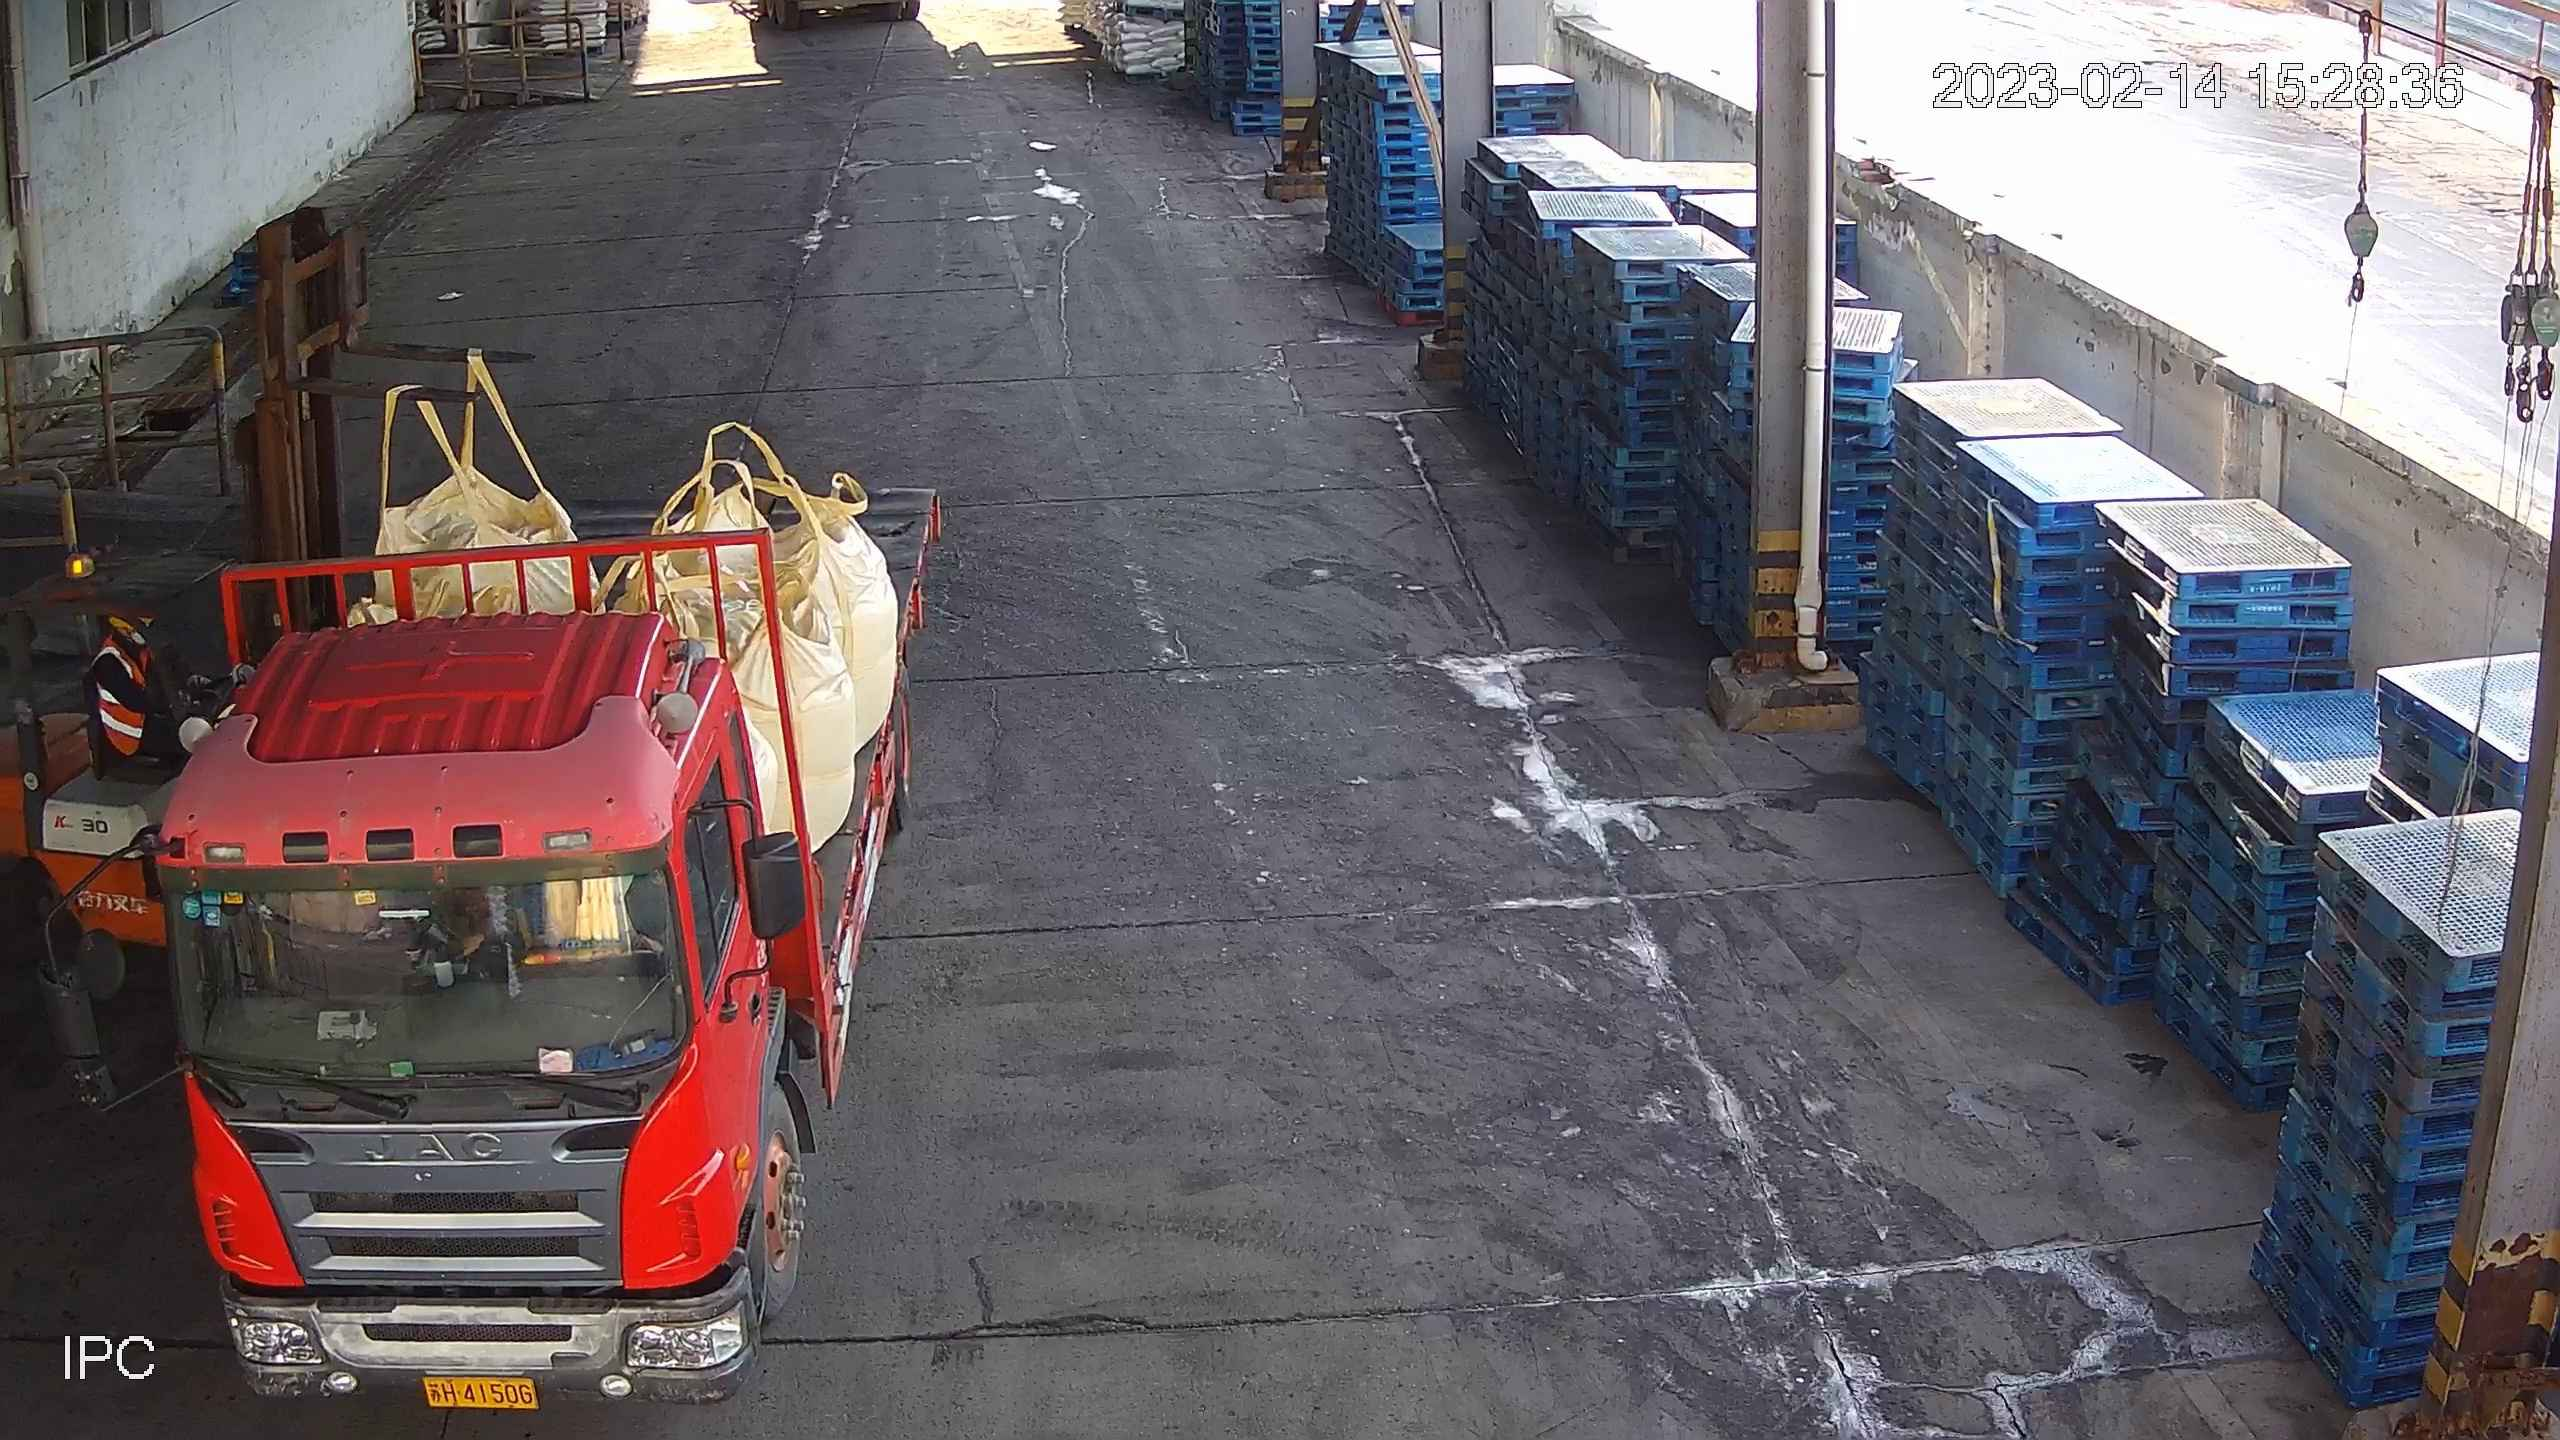people: (94, 613, 229, 760)
truck: (35, 487, 946, 1410)
